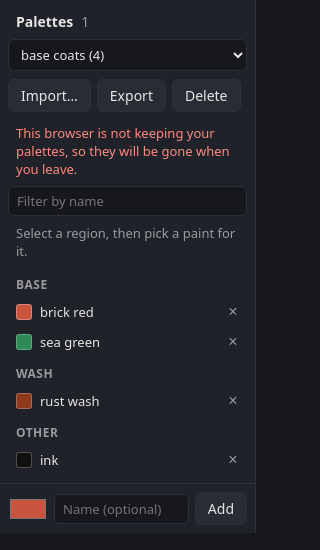
Test: PalettePanel › filters colors by name
The width and height of the screenshot is (320, 550).
Type "RE" into the search field named "Filter colors by name" at [128, 201], box [8,186,247,216]
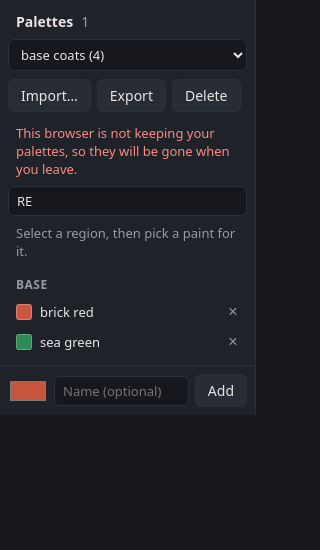
Expected: the button "brick red" is shown, [8,298,219,326]
Expected: the button "ink" is gone
Replace the text in the search field named "Filter colors by name" with "violet" at [128, 201], box [8,186,247,216]
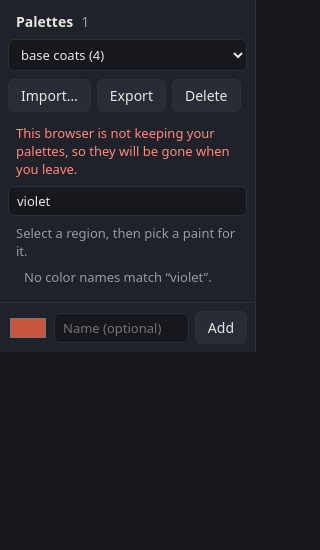
Expected: the text "No color names match “violet”." is shown, [24,268,231,286]
